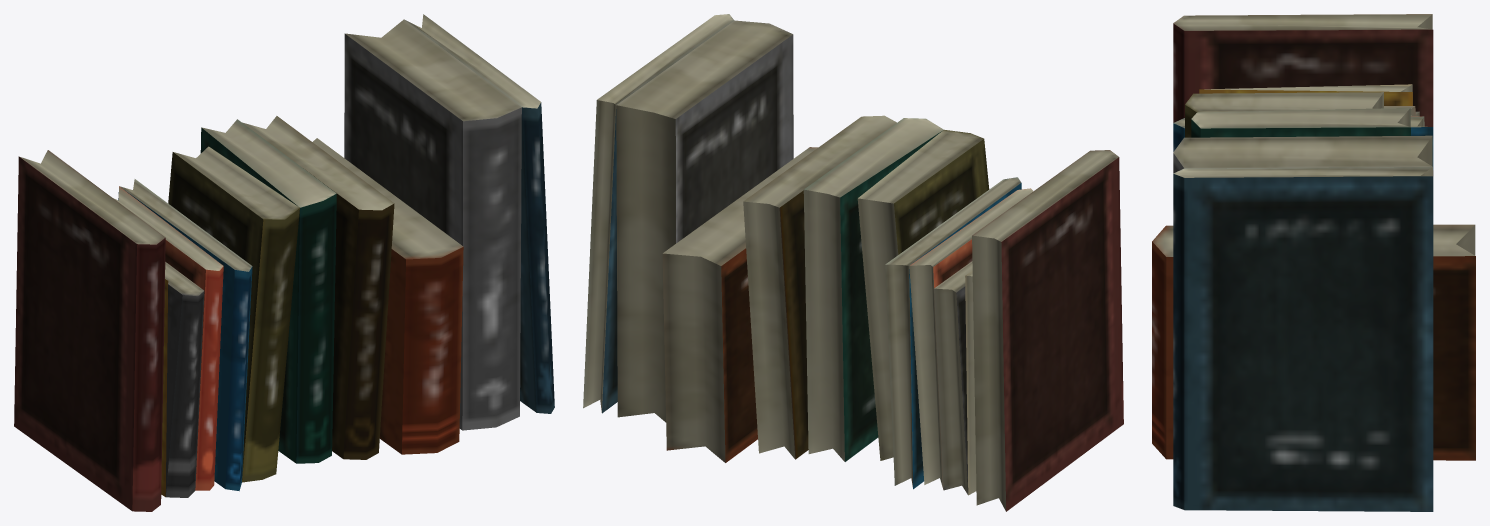
The model's file is M_Home_Garden_Book_Collection_03.fbx.
3 renders of one model, left to right at view 1: azimuth 30°, elevation 25°; view 2: azimuth 150°, elevation 25°; view 3: azimuth 270°, elevation 25°, orthographic. The views are drawn at different scales.
Parts seen in each view (by area): view 1: M_Home_Garden_Book_Collection_03; view 2: M_Home_Garden_Book_Collection_03; view 3: M_Home_Garden_Book_Collection_03.
Boxes of the visible parts, left/top/right/bottom form: M_Home_Garden_Book_Collection_03: left=14, top=14, right=554, bottom=511; M_Home_Garden_Book_Collection_03: left=583, top=14, right=1123, bottom=511; M_Home_Garden_Book_Collection_03: left=1152, top=14, right=1475, bottom=511.
Bounding box in the file's own units: 43.3 × 30.77 × 27.23.
